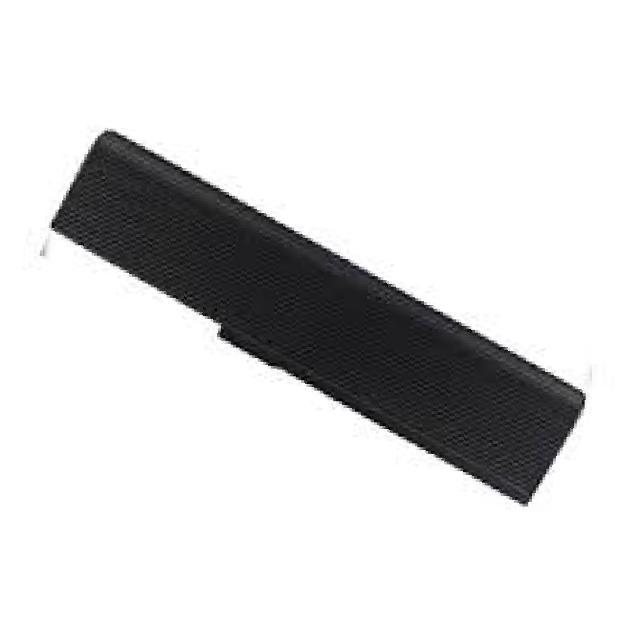Battery: (21, 108, 591, 527)
